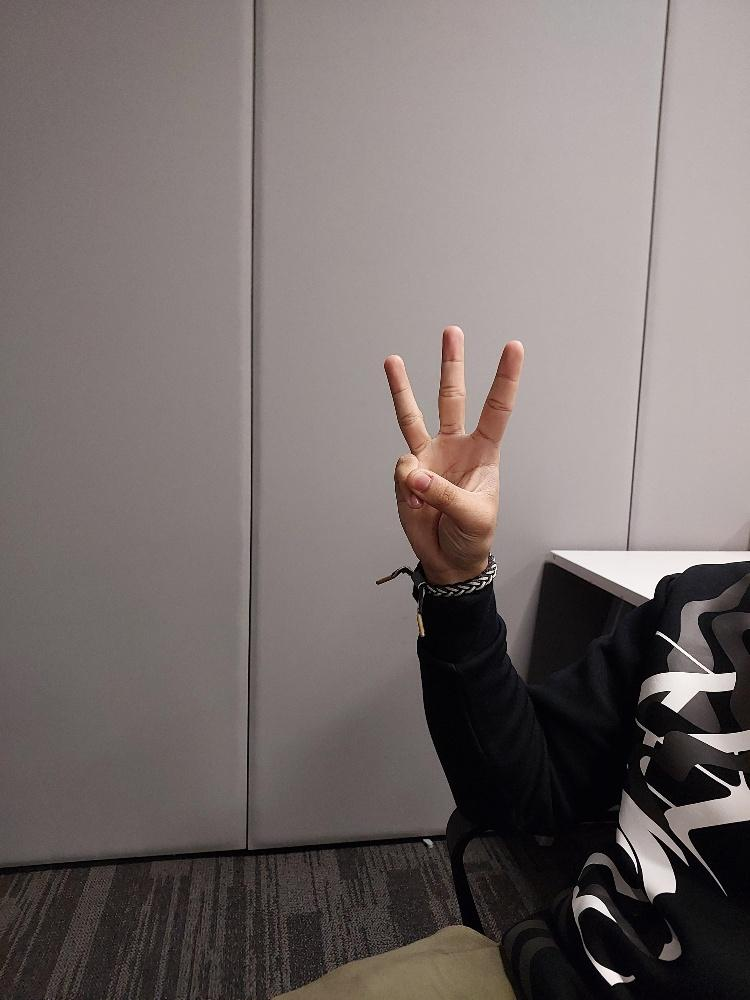w: (383, 324, 525, 572)
